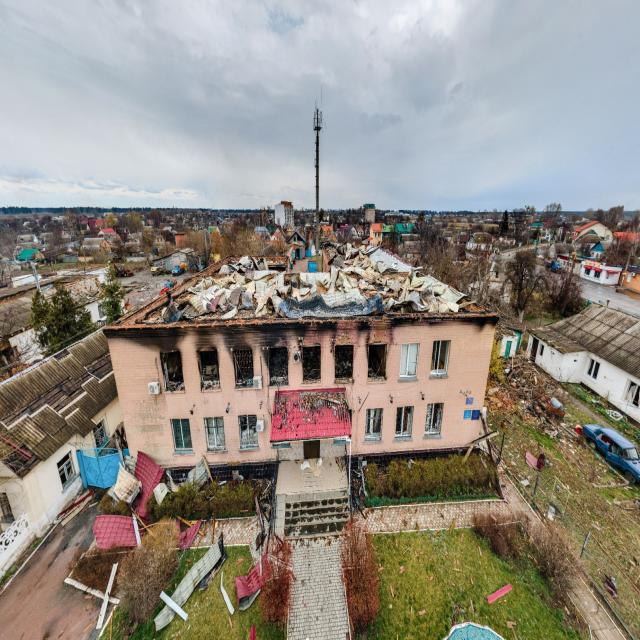broken_window: (160, 349, 185, 392), (197, 347, 220, 392), (232, 347, 254, 388), (267, 346, 289, 387), (170, 417, 193, 454), (203, 415, 226, 452), (301, 344, 321, 384), (430, 338, 450, 378), (367, 342, 387, 382), (334, 342, 353, 383), (238, 414, 259, 451), (399, 342, 419, 379), (394, 405, 414, 439), (424, 402, 443, 437), (364, 407, 383, 441)
building: (101, 241, 500, 493), (0, 326, 124, 538), (525, 301, 639, 426)
roof: (102, 238, 498, 334), (269, 386, 352, 443)
